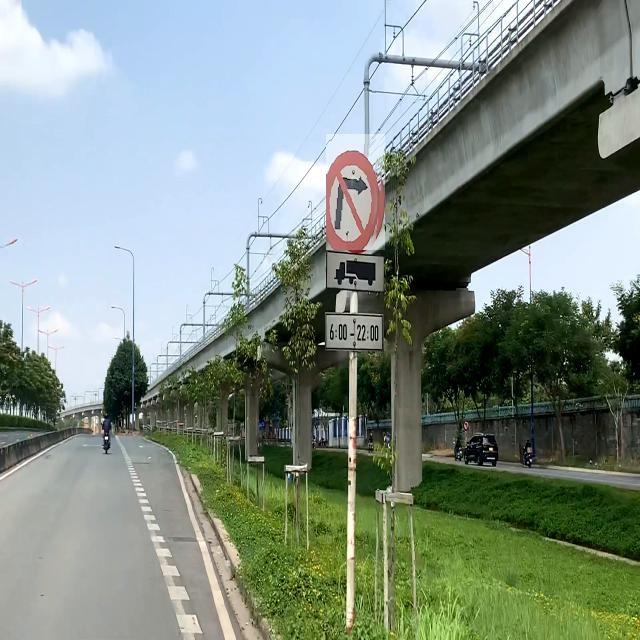bien_cam: (326, 134, 385, 250)
